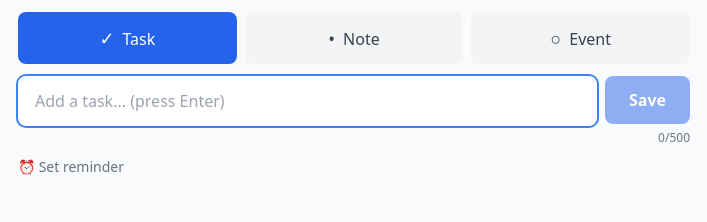
Test: EntryInput › should clear error when switching entry types
In the field with placeholder "Add a task... (press Enter)": (308, 101) [18,76,597,126], type "Test"
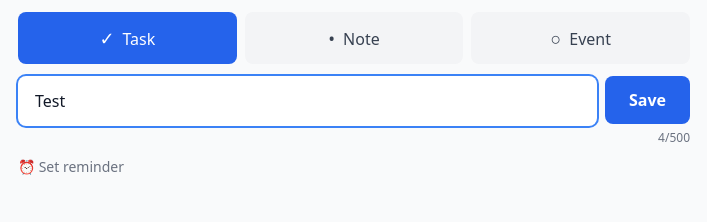
Click the button "Save": (648, 100) [605,76,690,124]
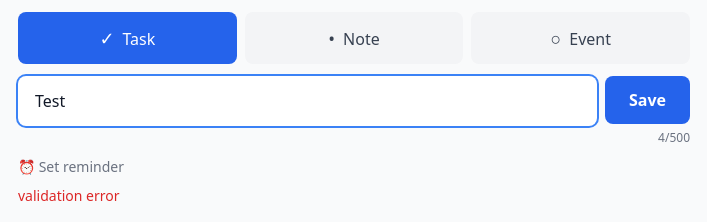
Result: the text "validation error" is shown at [18,186,120,205]
Click the button "•Note": (354, 38) [245,12,463,64]
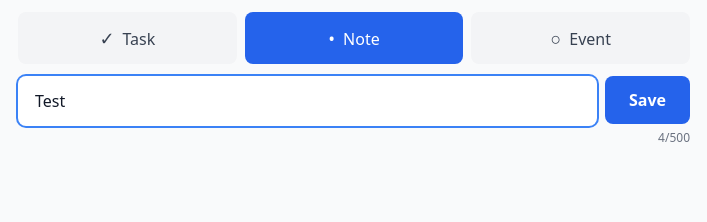
Result: the text "validation error" is gone
